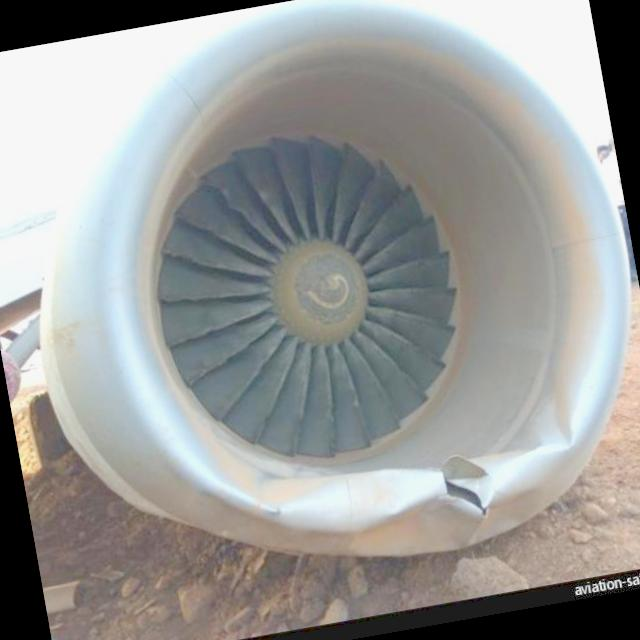crack: (440, 466, 488, 526)
dent: (277, 457, 446, 539), (527, 394, 579, 454), (452, 466, 504, 502)
